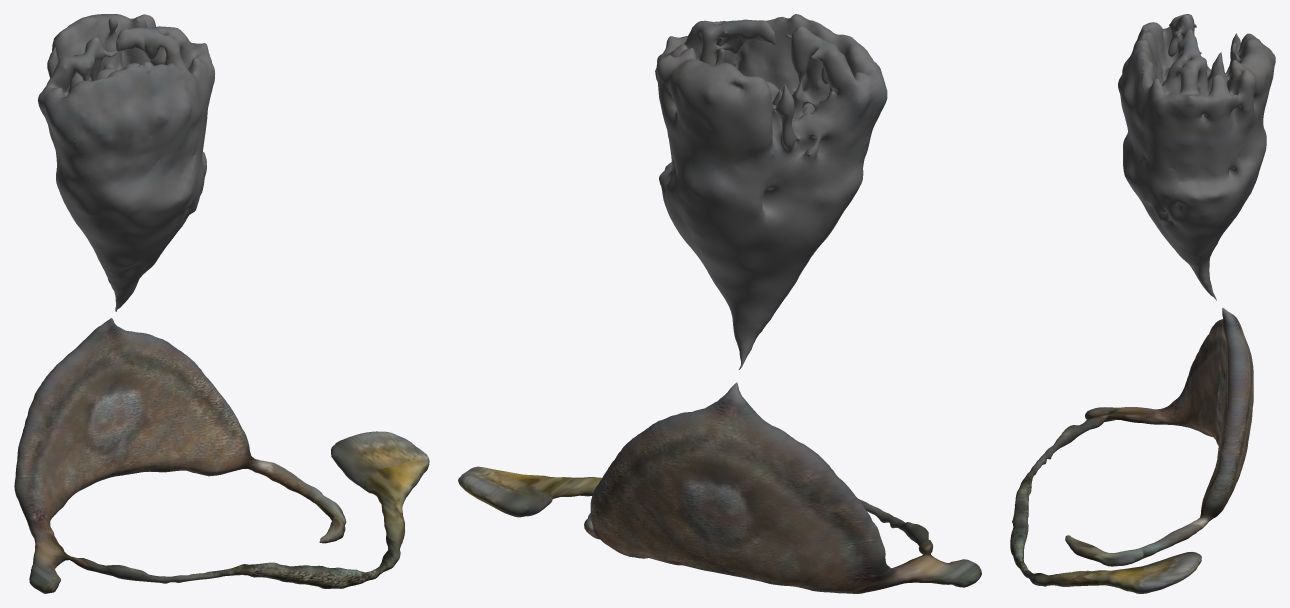
File: kfl-2279.glb
3 views of the same model, side by side, from view 1: azimuth 30°, elevation 25°; view 2: azimuth 150°, elevation 25°; view 3: azimuth 270°, elevation 25° (orthographic). The views are drawn at different scales.
Visible parts, largest first — view 1: geometry_0; view 2: geometry_0; view 3: geometry_0.
Part boxes in pixels (<box>): geometry_0: <box>14,14,429,593</box>; geometry_0: <box>458,14,981,593</box>; geometry_0: <box>1010,14,1275,593</box>.
Size of the model in its own units: 0.8262 by 0.9873 by 0.4983.
Materials: 1 (1 with a texture image).
